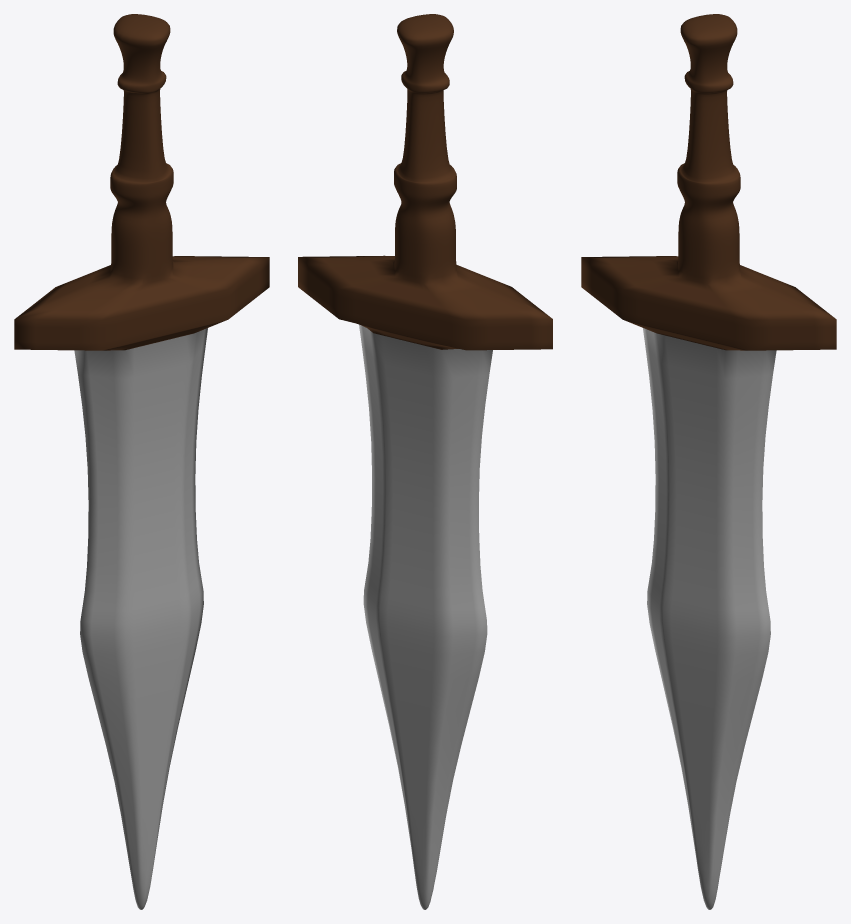
Rendered from sword uv.fbx.
3 renders of one model, left to right at view 1: azimuth 30°, elevation 25°; view 2: azimuth 150°, elevation 25°; view 3: azimuth 330°, elevation 25°, orthographic.
Parts seen in each view (by area): view 1: Cylinder; view 2: Cylinder; view 3: Cylinder.
Part boxes in pixels (bbox=[...]): Cylinder: bbox=[14, 14, 269, 909]; Cylinder: bbox=[298, 14, 552, 909]; Cylinder: bbox=[581, 14, 836, 909].
Bounding box in the file's own units: 173 × 574 × 53.25.
